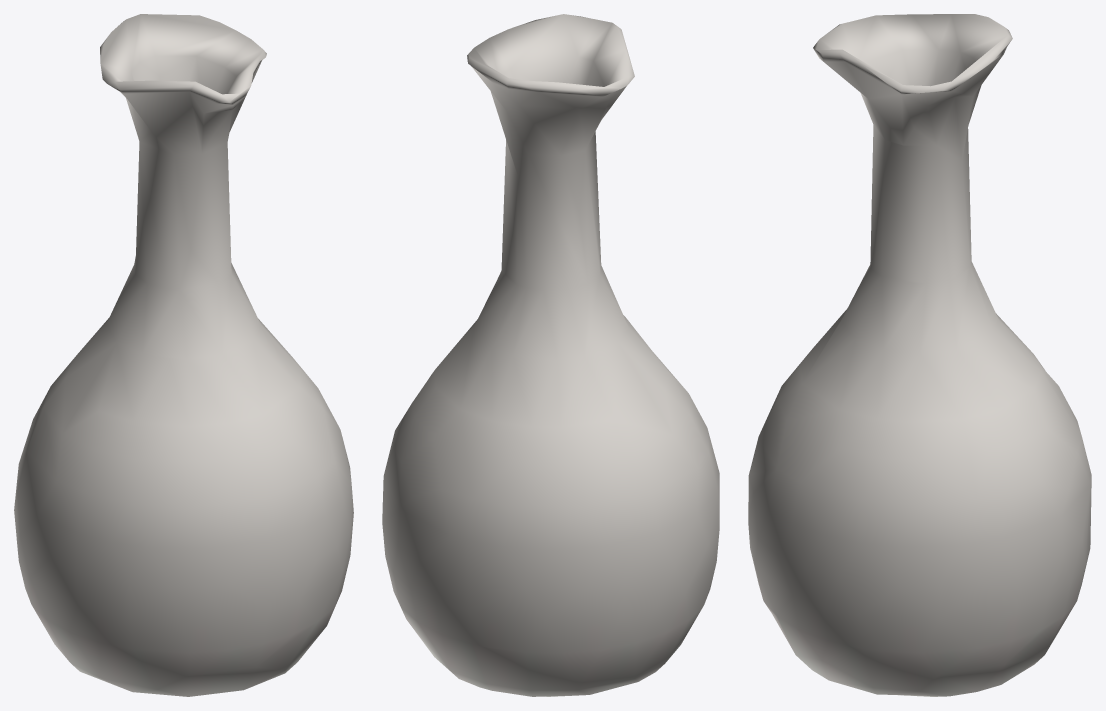
File: cc0_vase.glb
3 views of the same model, side by side, from view 1: azimuth 30°, elevation 25°; view 2: azimuth 150°, elevation 25°; view 3: azimuth 270°, elevation 25° (orthographic).
Visible parts, largest first — view 1: ceramic_vase_01; view 2: ceramic_vase_01; view 3: ceramic_vase_01.
Part boxes in pixels (<box>): ceramic_vase_01: <box>14,14,353,696</box>; ceramic_vase_01: <box>382,14,719,696</box>; ceramic_vase_01: <box>748,14,1091,696</box>.
Bounding box in the file's own units: 0.2022 × 0.3998 × 0.2018.
Materials: 1 (1 with a texture image).
